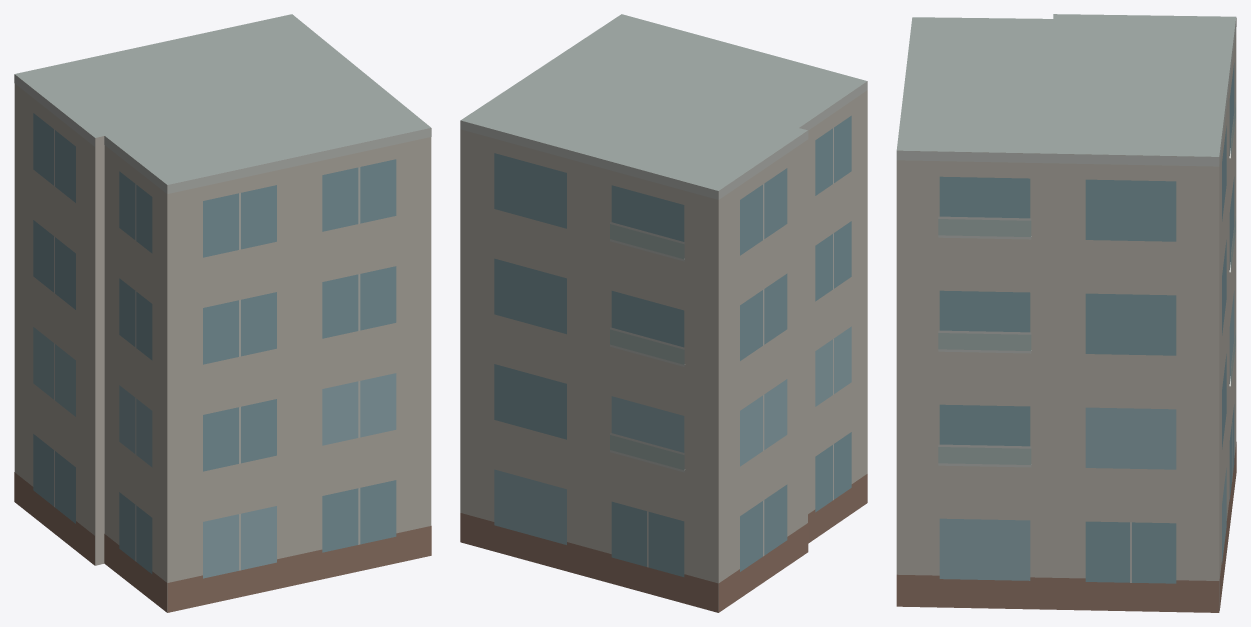
The model's file is survey-upis-32494663.glb.
3 renders of one model, left to right at view 1: azimuth 30°, elevation 25°; view 2: azimuth 150°, elevation 25°; view 3: azimuth 270°, elevation 25°, orthographic. The views are drawn at different scales.
Parts seen in each view (by area): view 1: survey-upis-32494663.tmp; view 2: survey-upis-32494663.tmp; view 3: survey-upis-32494663.tmp.
Part boxes in pixels (x1=…): survey-upis-32494663.tmp: x1=14, y1=14, x2=431, y2=612; survey-upis-32494663.tmp: x1=460, y1=14, x2=867, y2=612; survey-upis-32494663.tmp: x1=896, y1=14, x2=1236, y2=612.
Bounding box in the file's own units: 7.74 × 11.5 × 7.78.
